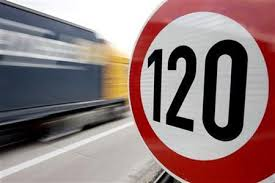Speed_limit_120km: (127, 2, 275, 182)
